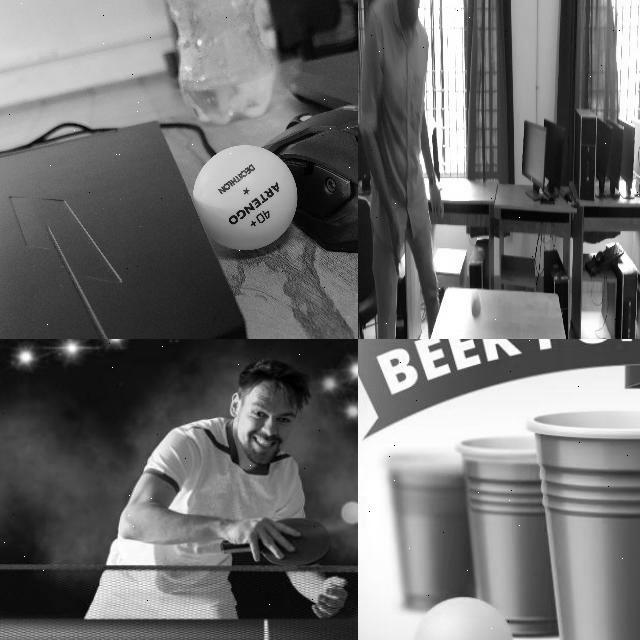ping-pong-ball: (193, 143, 299, 251), (413, 593, 514, 639), (469, 287, 481, 322), (341, 500, 357, 525)
